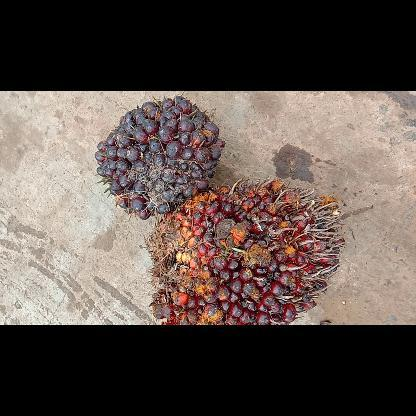TBS masak: (145, 176, 345, 324)
TBS mentah: (95, 96, 225, 218)
